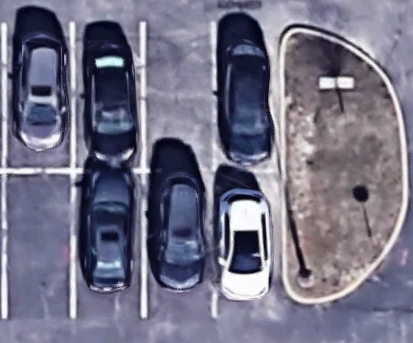Occupied: (71, 23, 143, 172), (142, 171, 214, 317), (3, 23, 73, 172), (73, 172, 144, 318), (214, 23, 282, 172), (214, 172, 282, 317)
Vacant: (142, 24, 215, 172), (3, 170, 74, 318)
